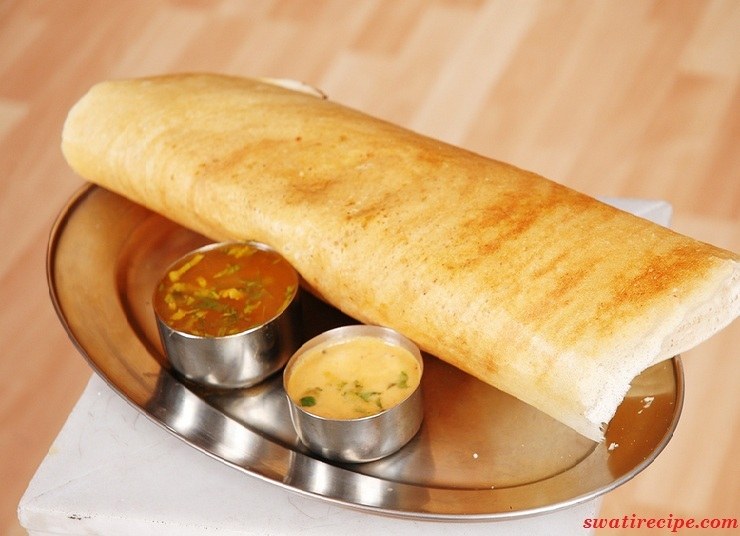dosa: (59, 58, 740, 447)
